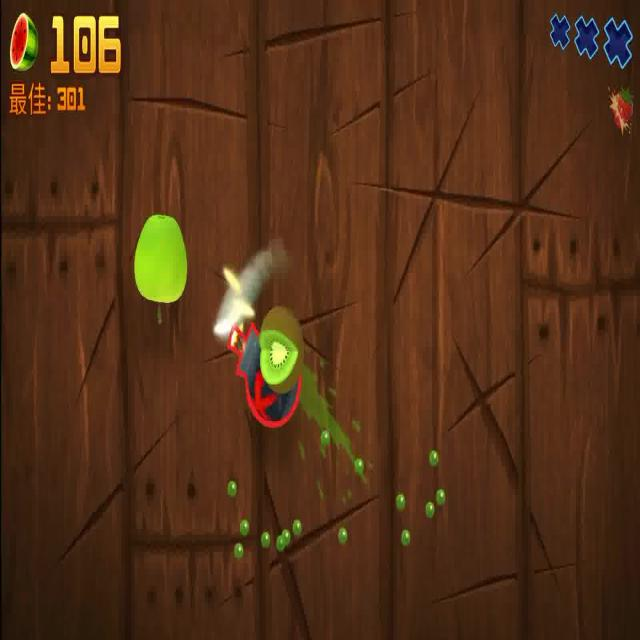bomb: (224, 316, 303, 426)
fruit: (134, 208, 187, 320), (258, 311, 306, 389)
